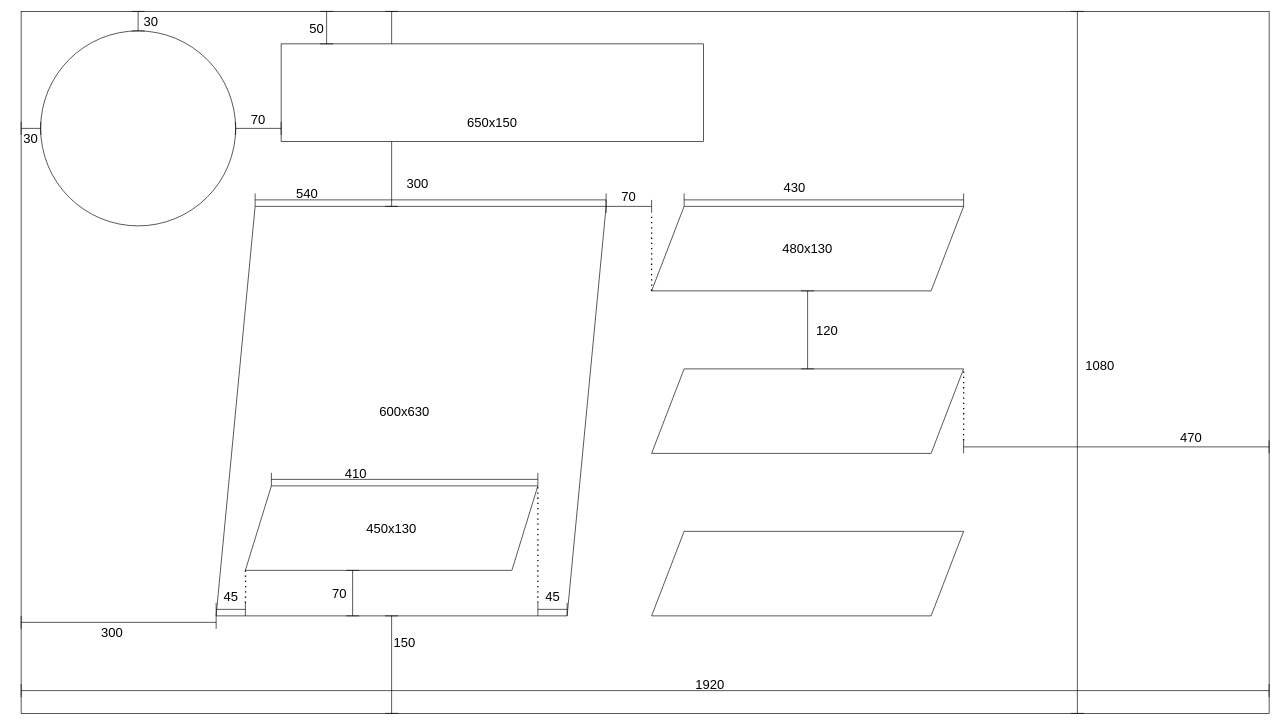
Image size: 1281x725. Some labels were removed from this diagram. Here are the shapes that lost their labels. From the top down, the box of each, then its label:
(280, 43, 704, 141): TITLE
(40, 30, 236, 226): 300x300
